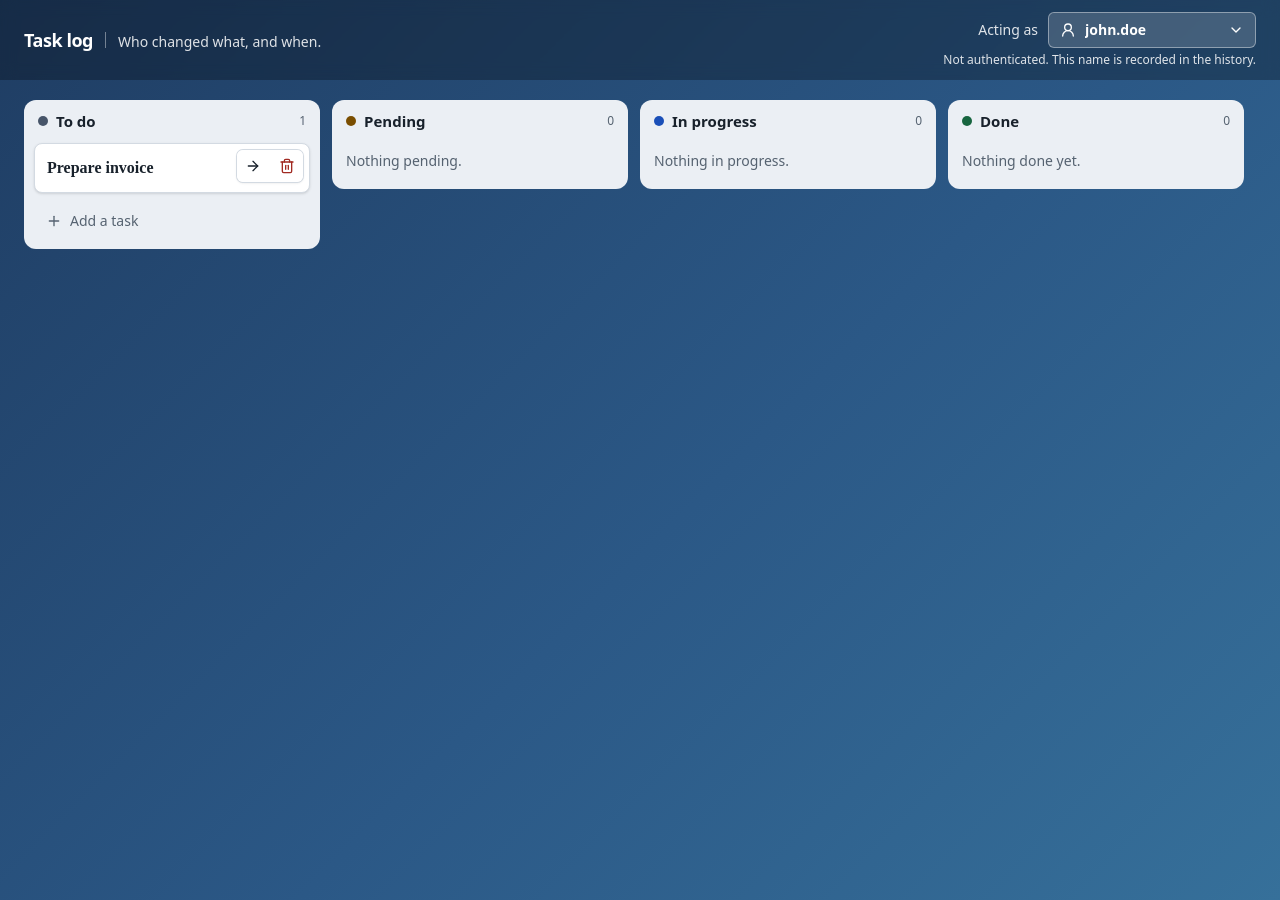
Test: moving a task (button alternative to dragging) › should put the card back and explain when the server refuses (the task changed in another tab)
Expected: the heading "Prepare invoice" is shown, [47, 156, 297, 180]
Click the button named "Move to Pending" at coordinates (253, 166), box [237, 150, 269, 182]
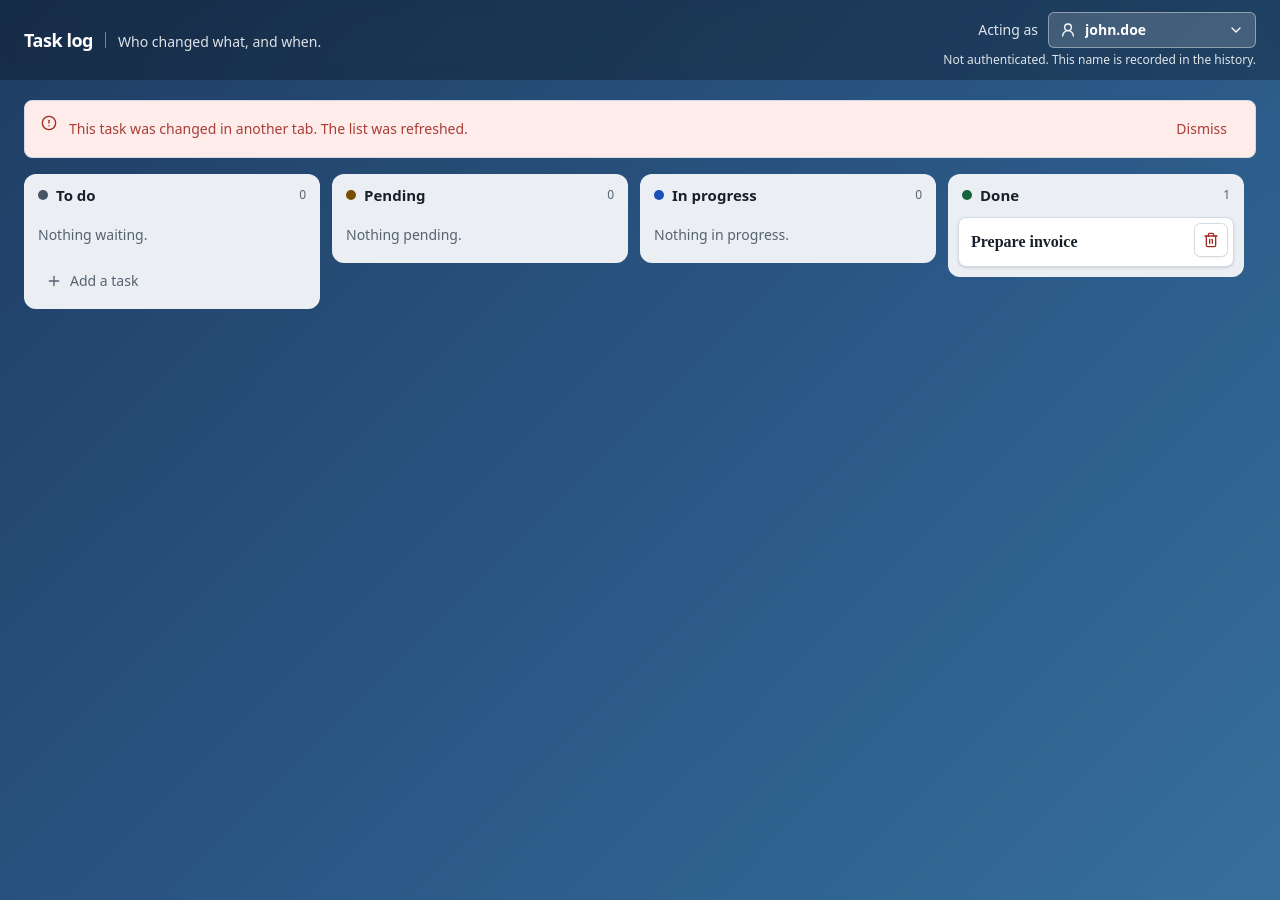
Expected: the heading "Prepare invoice" is shown, [971, 230, 1221, 254]
Expected: the message shows "This task was changed in another tab. The list was refreshed.", [69, 119, 468, 138]
Click the button "Dismiss" at coordinates (1202, 129), box [1164, 113, 1239, 145]
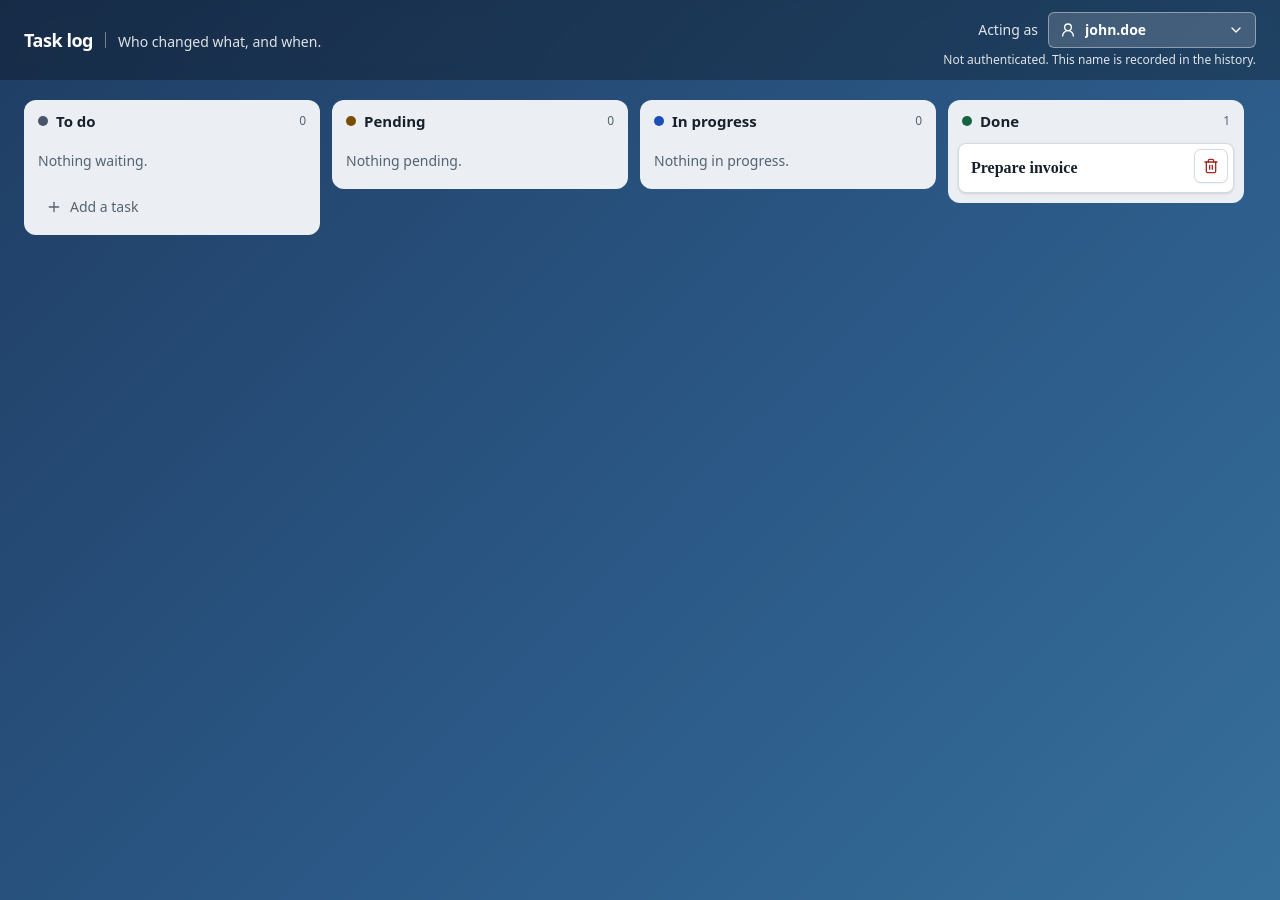
Expected: the message "This task was changed in another tab. The list was refreshed. Dismiss" is gone
